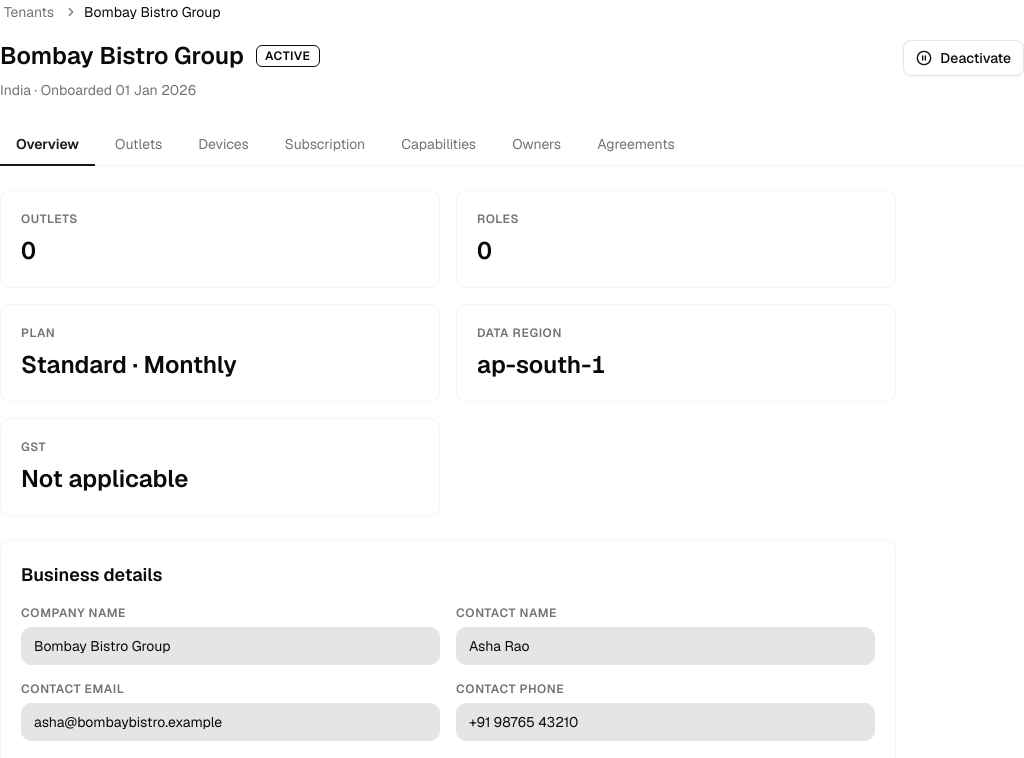
Test: TenantDetailPage lifecycle actions › deactivate: a 409 conflict shows the backend message in an error toast and leaves the page as-is
Click the button with test id "tenant-deactivate" at (964, 58), box [903,40,1023,76]
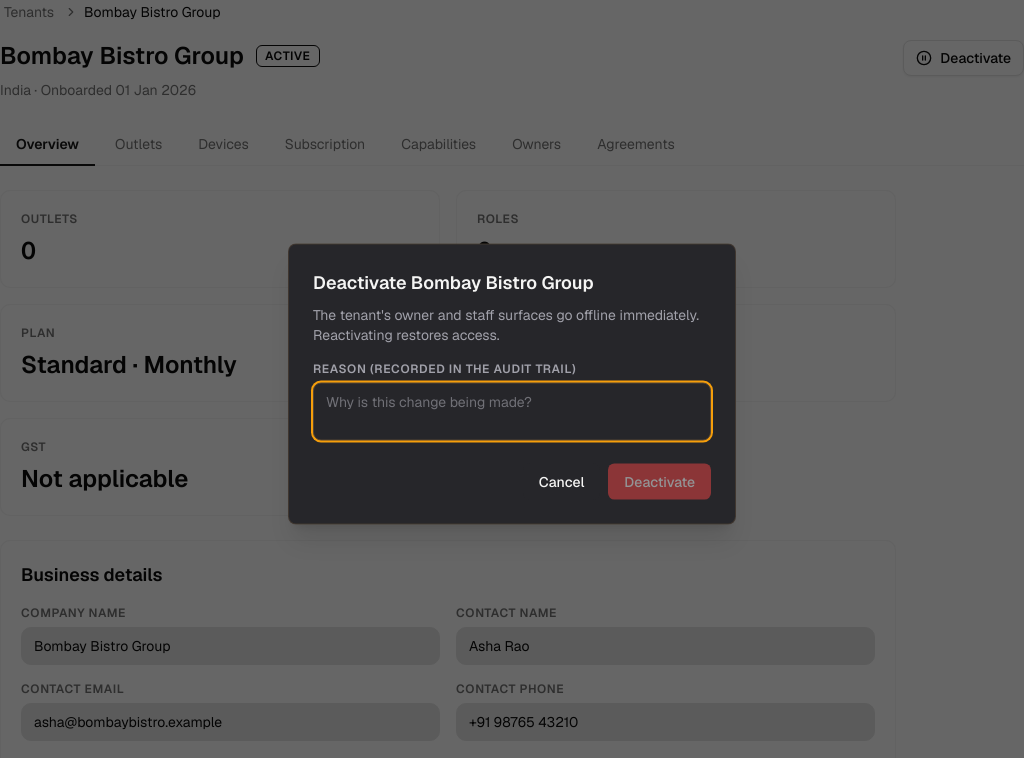
Type "Attempting deactivate" into the text box with test id "confirm-reason" at (512, 412), box [313,382,711,440]
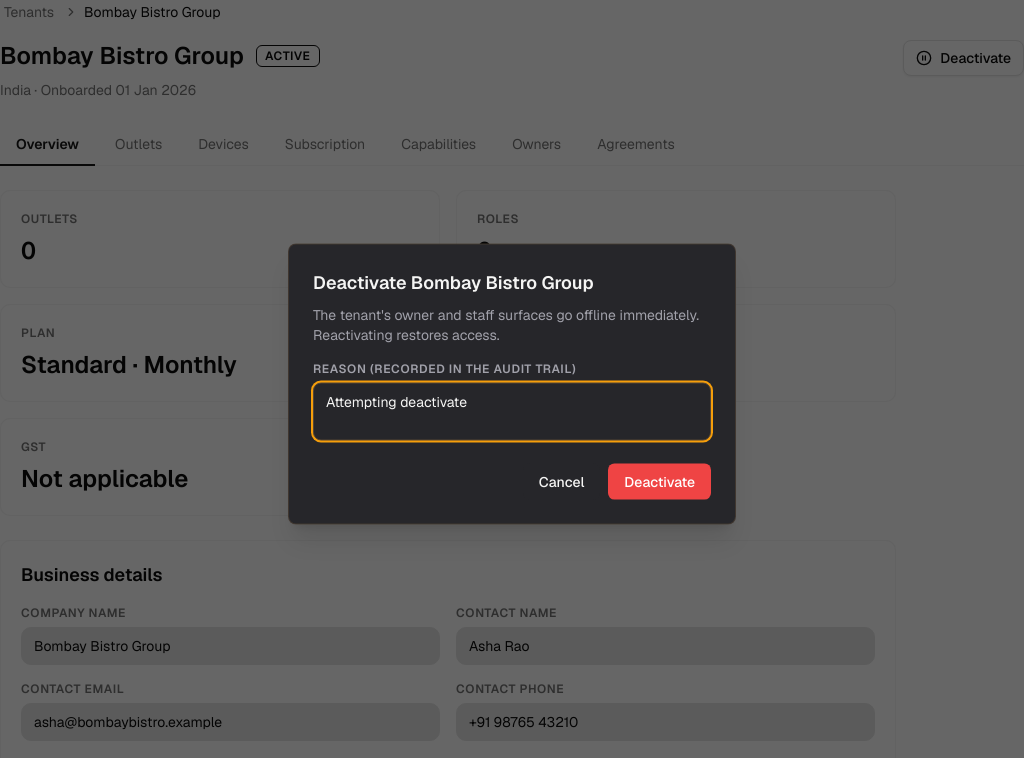
Click the button with test id "confirm-submit" at (660, 482), box [608,464,711,500]
(page scrolled)
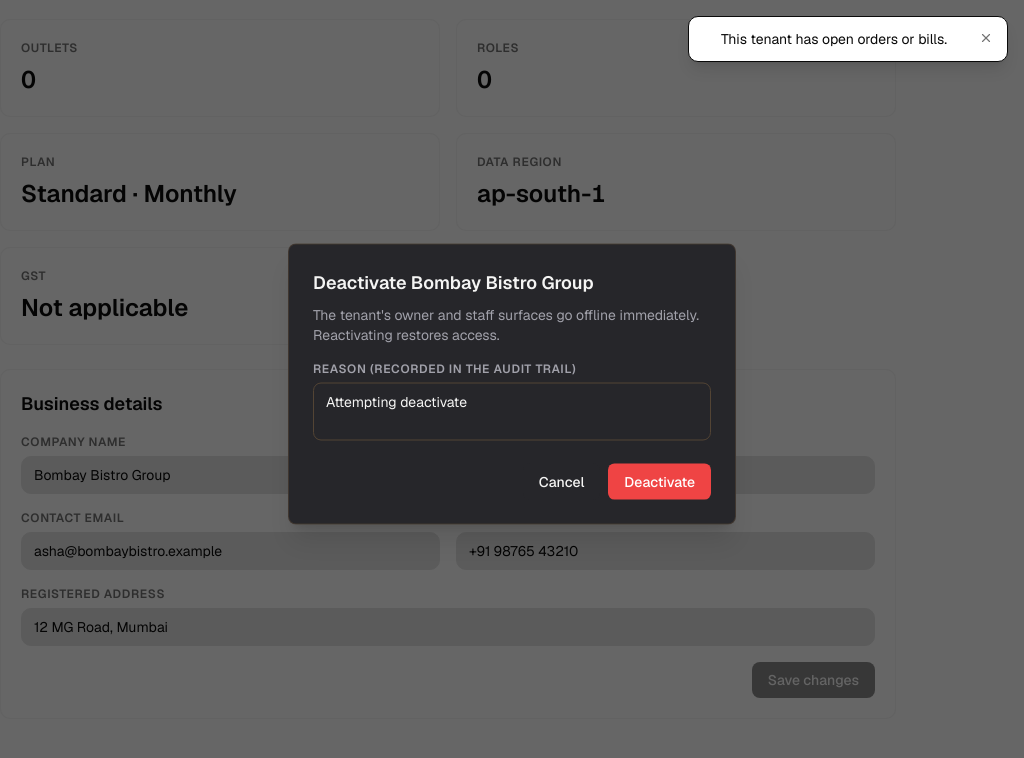
Expected: the element with test id "toast-error" reads "This tenant has open orders or bills.", [721,30,947,48]
